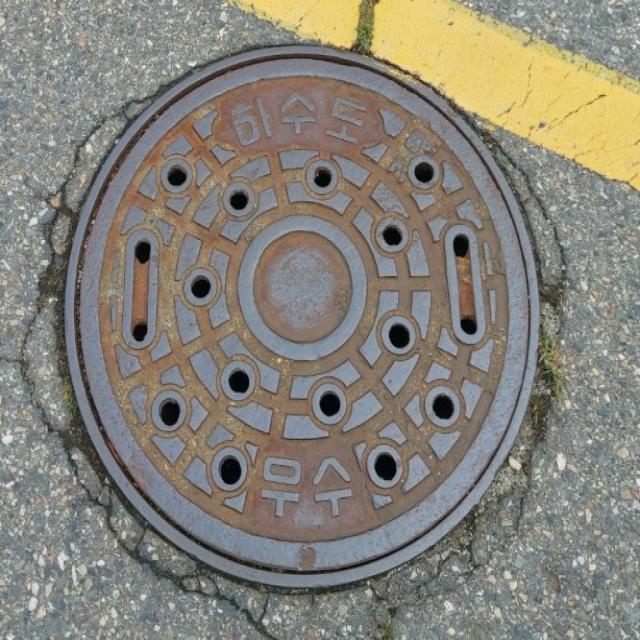manhole: (66, 46, 538, 588)
